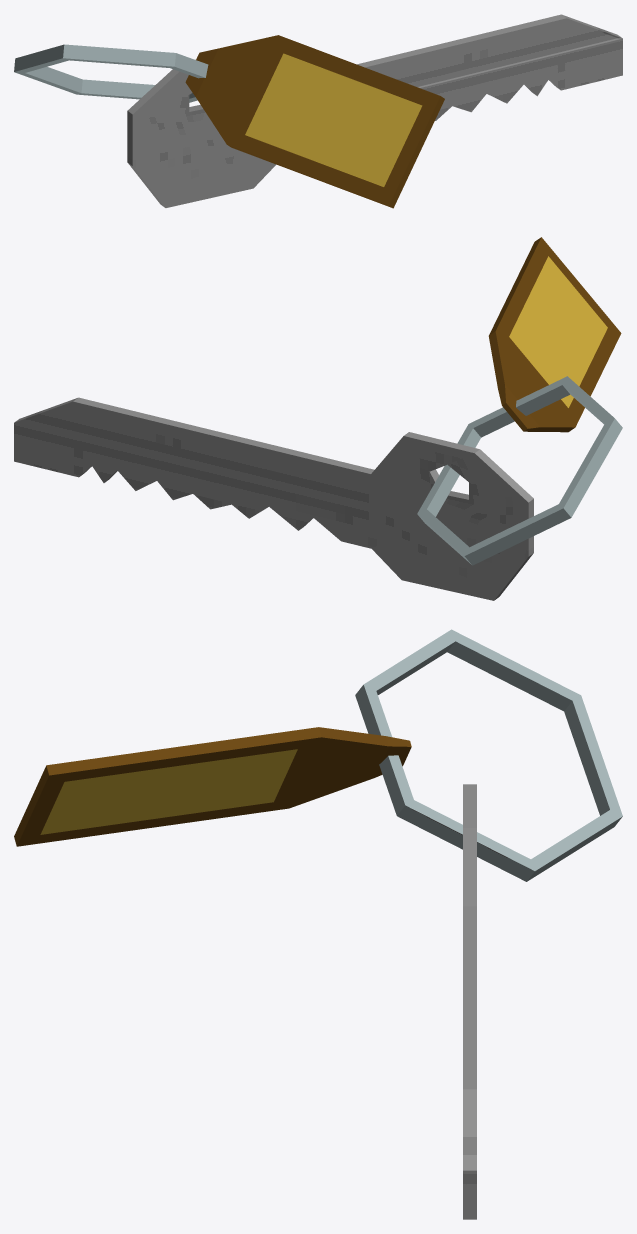
Rendered from Room Key.fbx.
The picture shows the model from 3 angles, top to bottom: view 1: azimuth 30°, elevation 25°; view 2: azimuth 150°, elevation 25°; view 3: azimuth 270°, elevation 25°; orthographic projection. The views are drawn at different scales.
Visible parts, largest first — view 1: Plane; view 2: Plane; view 3: Plane.
Boxes of the visible parts, x1=… form: Plane: x1=14, y1=14, x2=622, y2=208; Plane: x1=14, y1=237, x2=622, y2=600; Plane: x1=14, y1=629, x2=622, y2=1219.
Bounding box in the file's own units: 0.1398 × 0.0472 × 0.0983.
